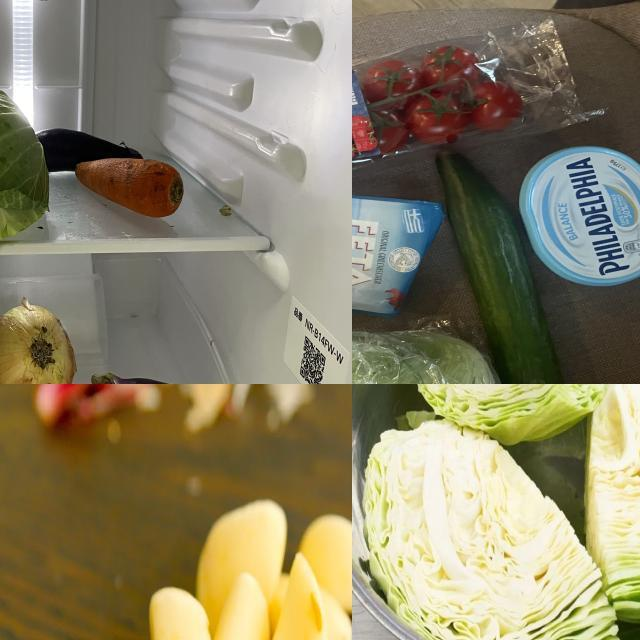cabbage: (361, 409, 625, 640), (578, 385, 640, 640), (406, 385, 614, 450), (1, 66, 60, 261)
carrot: (77, 153, 185, 224)
cucumber: (420, 119, 582, 385)
eggplant: (27, 125, 143, 181)
garlic: (122, 492, 353, 640)
onion: (1, 300, 78, 385)
tomato: (353, 23, 551, 178)
